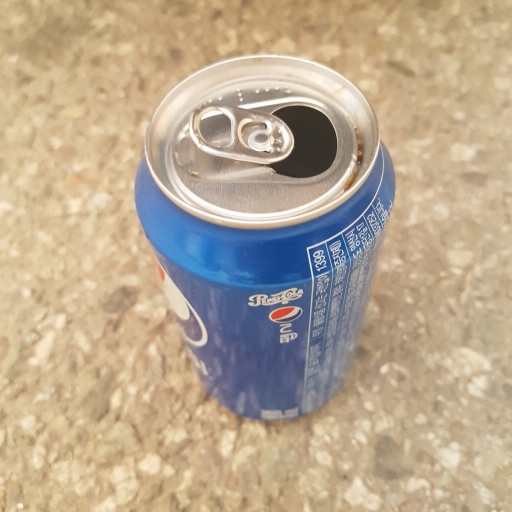Metal_0: (137, 51, 398, 427)
